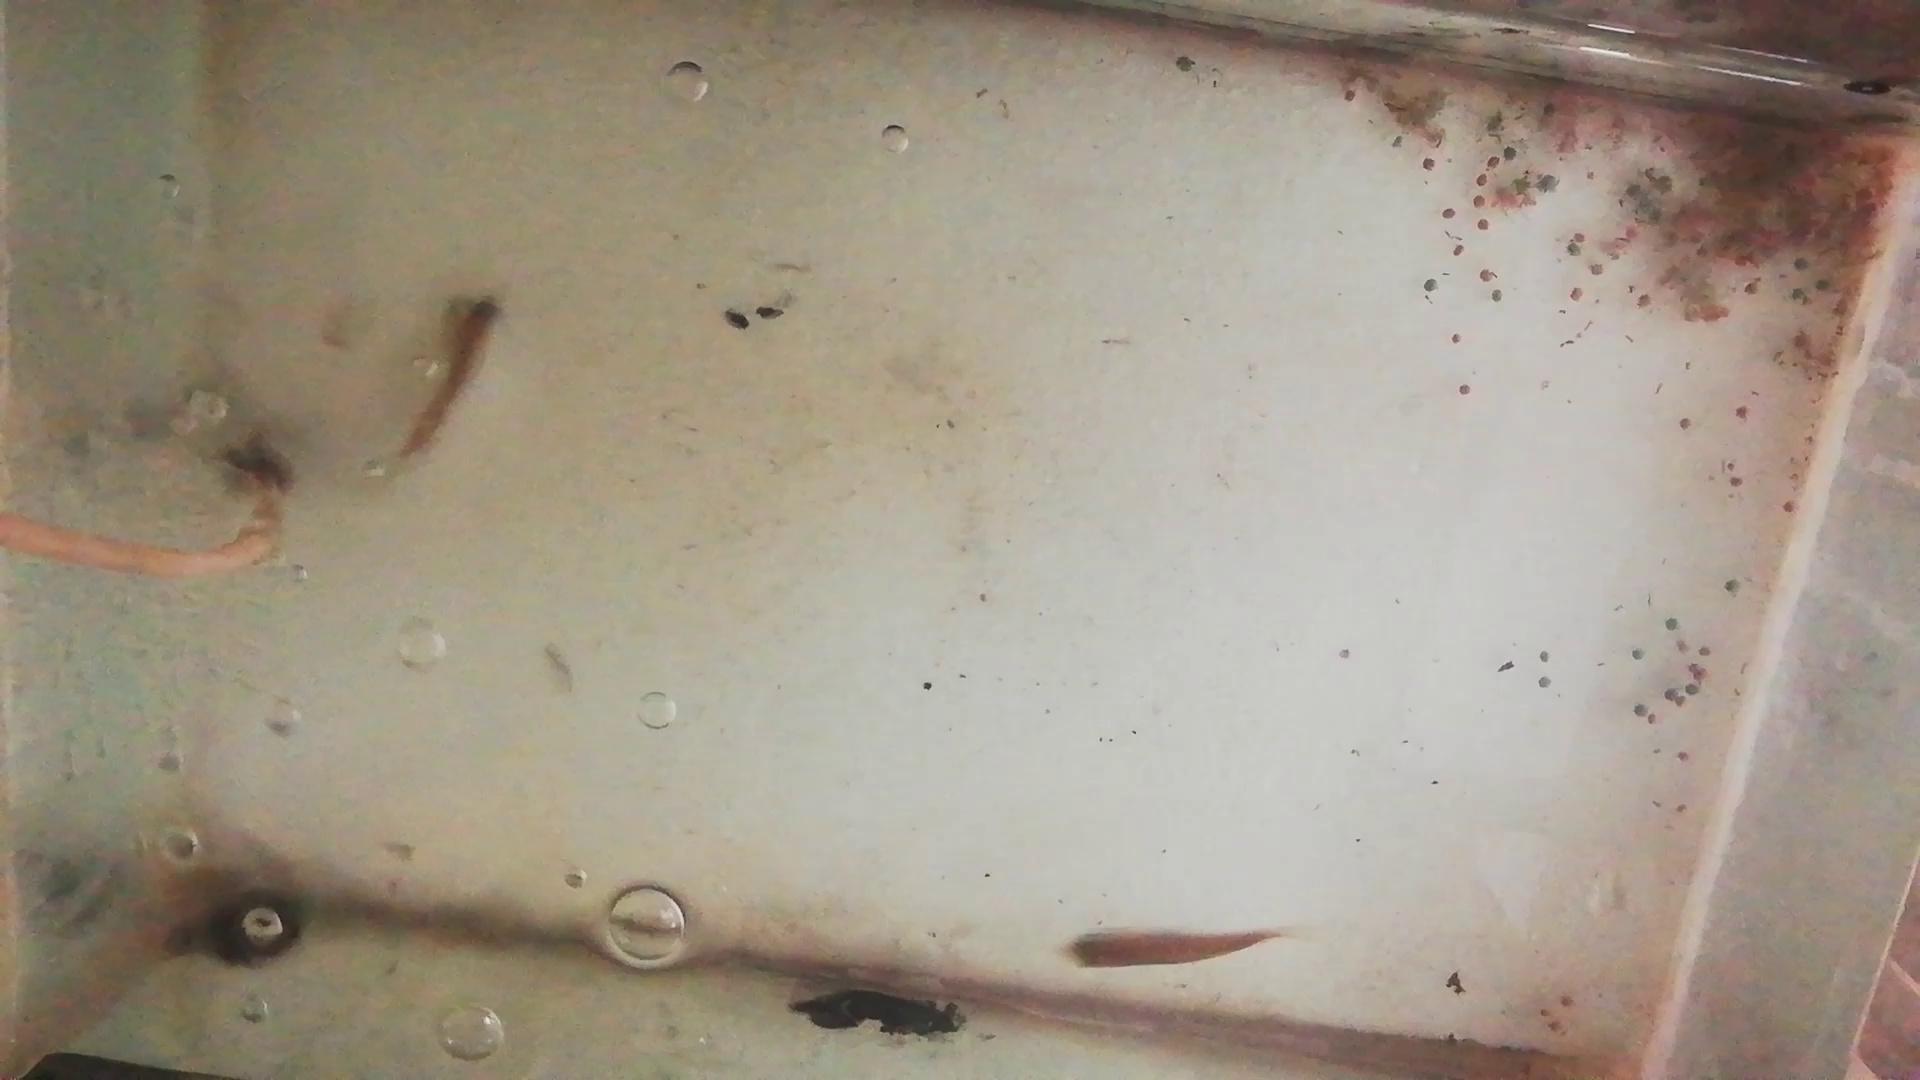fish: (389, 298, 505, 468), (1060, 916, 1283, 975)
